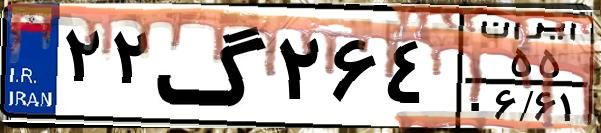0: (470, 70, 495, 125)
1: (560, 70, 590, 125)
2: (270, 28, 330, 110), (57, 26, 110, 100), (110, 28, 156, 98)
4: (385, 28, 445, 110)
5: (537, 27, 568, 80), (508, 27, 537, 80)
6: (330, 28, 385, 110), (495, 70, 520, 125), (535, 70, 560, 125)
گ: (156, 12, 270, 120)
